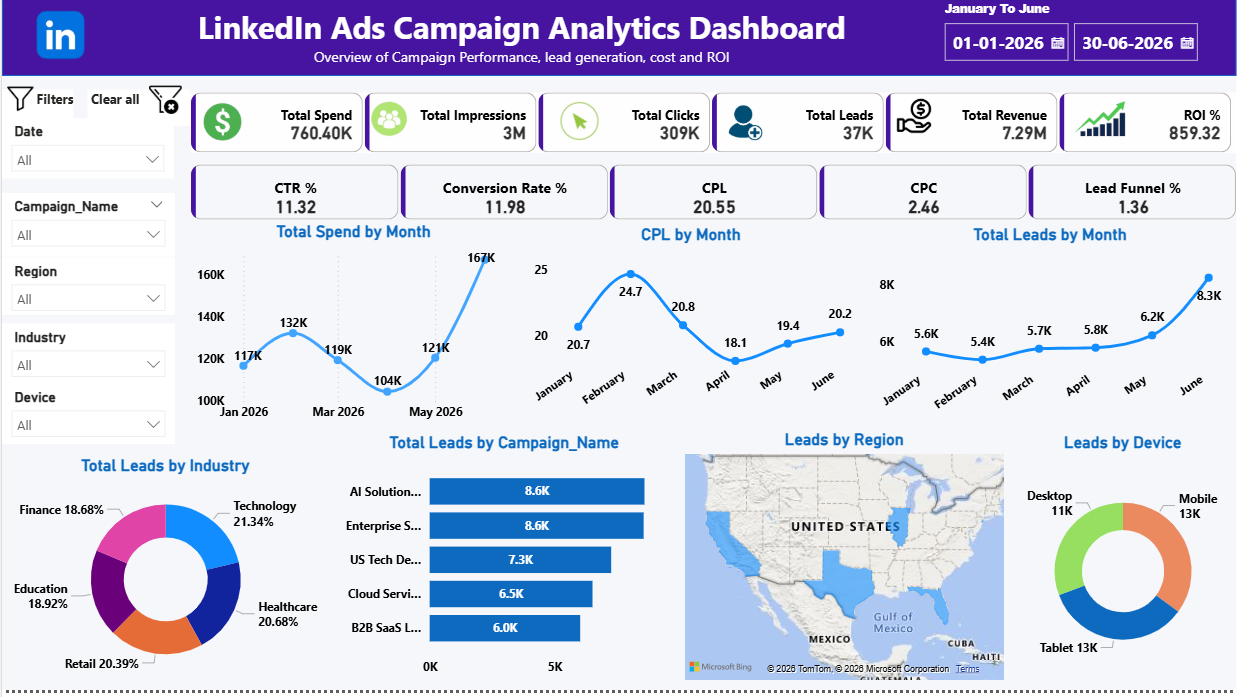

Layout of this report page (visuals, bound fields, positions):
{"tool":"powerbi","page":{"name":"Page 1","canvas":[1280,720],"ordinal":0},"visuals":[{"type":"shape","box":[0,83.9,1279.5,636.4],"z":0},{"type":"lineChart","title":"Total Spend by Month","fields":{"Y":["Linkedin_Ads_Campaign_Data.Total Spend"],"Category":["DateTable.Date.Variation.Date Hierarchy.Year","DateTable.Date.Variation.Date Hierarchy.Month"]},"box":[195.7,235.2,337.1,215.4],"z":1000},{"type":"lineChart","fields":{"Y":["Linkedin_Ads_Campaign_Data.Total Leads"],"Category":["DateTable.Date.Variation.Date Hierarchy.Month"]},"box":[894.6,238.5,384.8,212.1],"z":2000},{"type":"lineChart","fields":{"Y":["Linkedin_Ads_Campaign_Data.CPL"],"Category":["DateTable.Date.Variation.Date Hierarchy.Month"]},"box":[532.8,238.5,361.8,207.2],"z":3000},{"type":"cardVisual","fields":{"Data":["Linkedin_Ads_Campaign_Data.Total Spend","Linkedin_Ads_Campaign_Data.Total Impressions","Linkedin_Ads_Campaign_Data.Total Clicks","Linkedin_Ads_Campaign_Data.Total Leads","Linkedin_Ads_Campaign_Data.Total Revenue","Linkedin_Ads_Campaign_Data.ROI %"]},"box":[195.7,100.3,1083.8,62.5],"z":4000},{"type":"donutChart","title":"Total Leads by Industry","fields":{"Category":["Linkedin_Ads_Campaign_Data.Industry"],"Y":["Sum(Linkedin_Ads_Campaign_Data.Leads)"]},"box":[0,476.9,338.8,236.8],"z":5000},{"type":"clusteredBarChart","title":"Total  Leads by Campaign_Name","fields":{"Category":["Linkedin_Ads_Campaign_Data.Campaign_Name"],"Y":["Sum(Linkedin_Ads_Campaign_Data.Leads)"]},"box":[339.2,454.3,363.4,265],"z":6000},{"type":"filledMap","title":" Leads by Region","fields":{"Category":["Linkedin_Ads_Campaign_Data.Region"]},"box":[702.6,451.2,324,263.5],"z":7000},{"type":"slicer","fields":{"Values":["Linkedin_Ads_Campaign_Data.Date"]},"box":[0,127.9,178.3,62.9],"z":8000},{"type":"slicer","fields":{"Values":["Linkedin_Ads_Campaign_Data.Campaign_Name"]},"box":[0,205.6,179.3,65.8],"z":9000},{"type":"slicer","fields":{"Values":["Linkedin_Ads_Campaign_Data.Region"]},"box":[0,271.4,179.3,59.2],"z":10000},{"type":"slicer","fields":{"Values":["Linkedin_Ads_Campaign_Data.Industry"]},"box":[0,340.4,179.3,62.5],"z":11000},{"type":"textbox","box":[0,98.7,74,34.5],"z":12000},{"type":"slicer","fields":{"Values":["Linkedin_Ads_Campaign_Data.Device"]},"box":[0,402.9,179.3,62.5],"z":13000},{"type":"donutChart","title":"Leads by Device","fields":{"Category":["Linkedin_Ads_Campaign_Data.Device"],"Y":["Sum(Linkedin_Ads_Campaign_Data.Leads)"]},"box":[1026.6,454.3,252.9,266.5],"z":14000},{"type":"image","box":[195.7,103.6,65.8,54.3],"z":15000},{"type":"image","box":[376.6,100.3,49.3,55.9],"z":16000},{"type":"image","box":[555.9,102,83.9,55.9],"z":17000},{"type":"image","box":[745,106.9,52.6,51],"z":18000},{"type":"image","box":[912.7,98.7,65.8,54.3],"z":19000},{"type":"image","box":[1093.6,102,88.8,51],"z":20000},{"type":"cardVisual","fields":{"Data":["Linkedin_Ads_Campaign_Data.CTR %","Linkedin_Ads_Campaign_Data.Conversion Rate %","Linkedin_Ads_Campaign_Data.CPL","Linkedin_Ads_Campaign_Data.CPC","Linkedin_Ads_Campaign_Data.Lead Funnel %"]},"box":[195.7,176,1083.8,57.6],"z":21000},{"type":"shape","box":[0,0,1279.5,83.9],"z":22000},{"type":"image","box":[0,0,121.3,82.4],"z":23000},{"type":"image","box":[0,88.8,37.8,37.8],"z":25000},{"type":"textbox","box":[88.8,98.7,106.9,37.8],"z":26000},{"type":"slicer","fields":{"Values":["Linkedin_Ads_Campaign_Data.Date"]},"box":[963.9,0,315.6,84],"z":27000},{"type":"image","box":[142.3,89.3,53,39.4],"z":28000},{"type":"textbox","box":[119.7,10.9,838,71.5],"z":28001}]}

Visuals, with their boxes in screenshot pixels (x1, y1, x2, y2), scaled from the page's 1280x720 canvas onto the 1237x697 screenshot:
shape: x1=0, y1=81, x2=1236, y2=696
"Total Spend by Month" lineChart: x1=189, y1=228, x2=515, y2=436
lineChart - Linkedin_Ads_Campaign_Data.Total Leads x DateTable.Date.Variation.Date Hierarchy.Month: x1=865, y1=231, x2=1236, y2=436
lineChart - Linkedin_Ads_Campaign_Data.CPL x DateTable.Date.Variation.Date Hierarchy.Month: x1=515, y1=231, x2=865, y2=431
cardVisual - Linkedin_Ads_Campaign_Data.Total Spend x Linkedin_Ads_Campaign_Data.Total Impressions: x1=189, y1=97, x2=1236, y2=158
"Total Leads by Industry" donutChart: x1=0, y1=462, x2=327, y2=691
"Total  Leads by Campaign_Name" clusteredBarChart: x1=328, y1=440, x2=679, y2=696
" Leads by Region" filledMap: x1=679, y1=437, x2=992, y2=692
slicer - Linkedin_Ads_Campaign_Data.Date: x1=0, y1=124, x2=172, y2=185
slicer - Linkedin_Ads_Campaign_Data.Campaign_Name: x1=0, y1=199, x2=173, y2=263
slicer - Linkedin_Ads_Campaign_Data.Region: x1=0, y1=263, x2=173, y2=320
slicer - Linkedin_Ads_Campaign_Data.Industry: x1=0, y1=330, x2=173, y2=390
textbox: x1=0, y1=96, x2=72, y2=129
slicer - Linkedin_Ads_Campaign_Data.Device: x1=0, y1=390, x2=173, y2=451
"Leads by Device" donutChart: x1=992, y1=440, x2=1236, y2=696
image: x1=189, y1=100, x2=253, y2=153
image: x1=364, y1=97, x2=412, y2=151
image: x1=537, y1=99, x2=618, y2=153
image: x1=720, y1=103, x2=771, y2=153
image: x1=882, y1=96, x2=946, y2=148
image: x1=1057, y1=99, x2=1143, y2=148
cardVisual - Linkedin_Ads_Campaign_Data.CTR % x Linkedin_Ads_Campaign_Data.Conversion Rate %: x1=189, y1=170, x2=1236, y2=226
shape: x1=0, y1=0, x2=1236, y2=81
image: x1=0, y1=0, x2=117, y2=80
image: x1=0, y1=86, x2=37, y2=123
textbox: x1=86, y1=96, x2=189, y2=132
slicer - Linkedin_Ads_Campaign_Data.Date: x1=932, y1=0, x2=1236, y2=81
image: x1=138, y1=86, x2=189, y2=125
textbox: x1=116, y1=11, x2=926, y2=80
